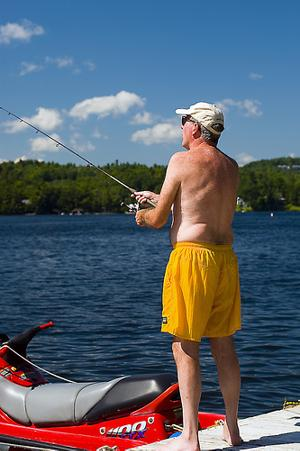person: (132, 103, 242, 451)
